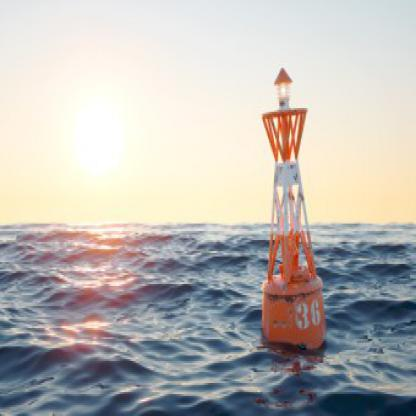buoy: (252, 62, 337, 358)
